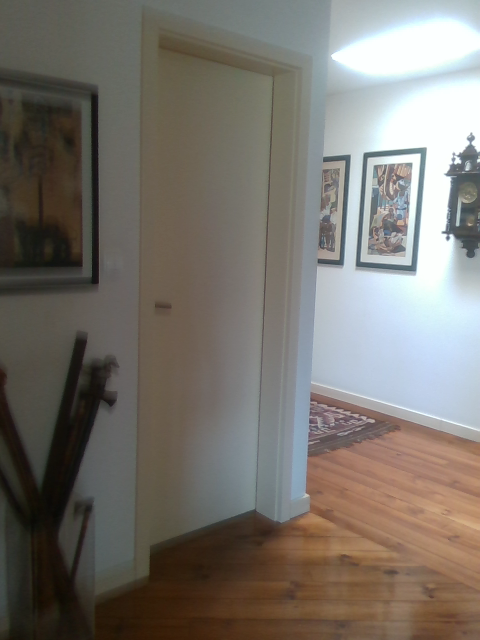closed: (136, 10, 313, 579)
